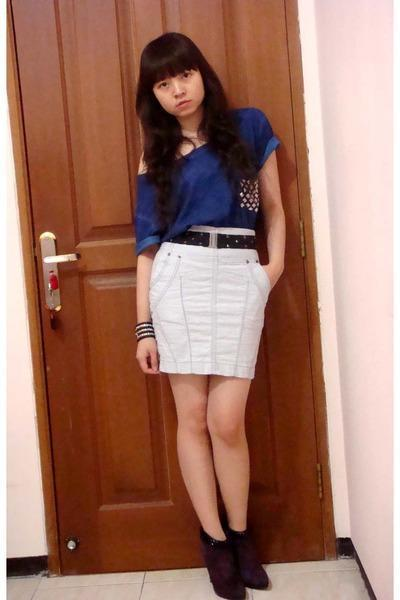jacket: (138, 152, 146, 174)
shirt: (134, 108, 275, 259)
shoe: (200, 516, 270, 599)
skirt: (156, 229, 275, 376)
